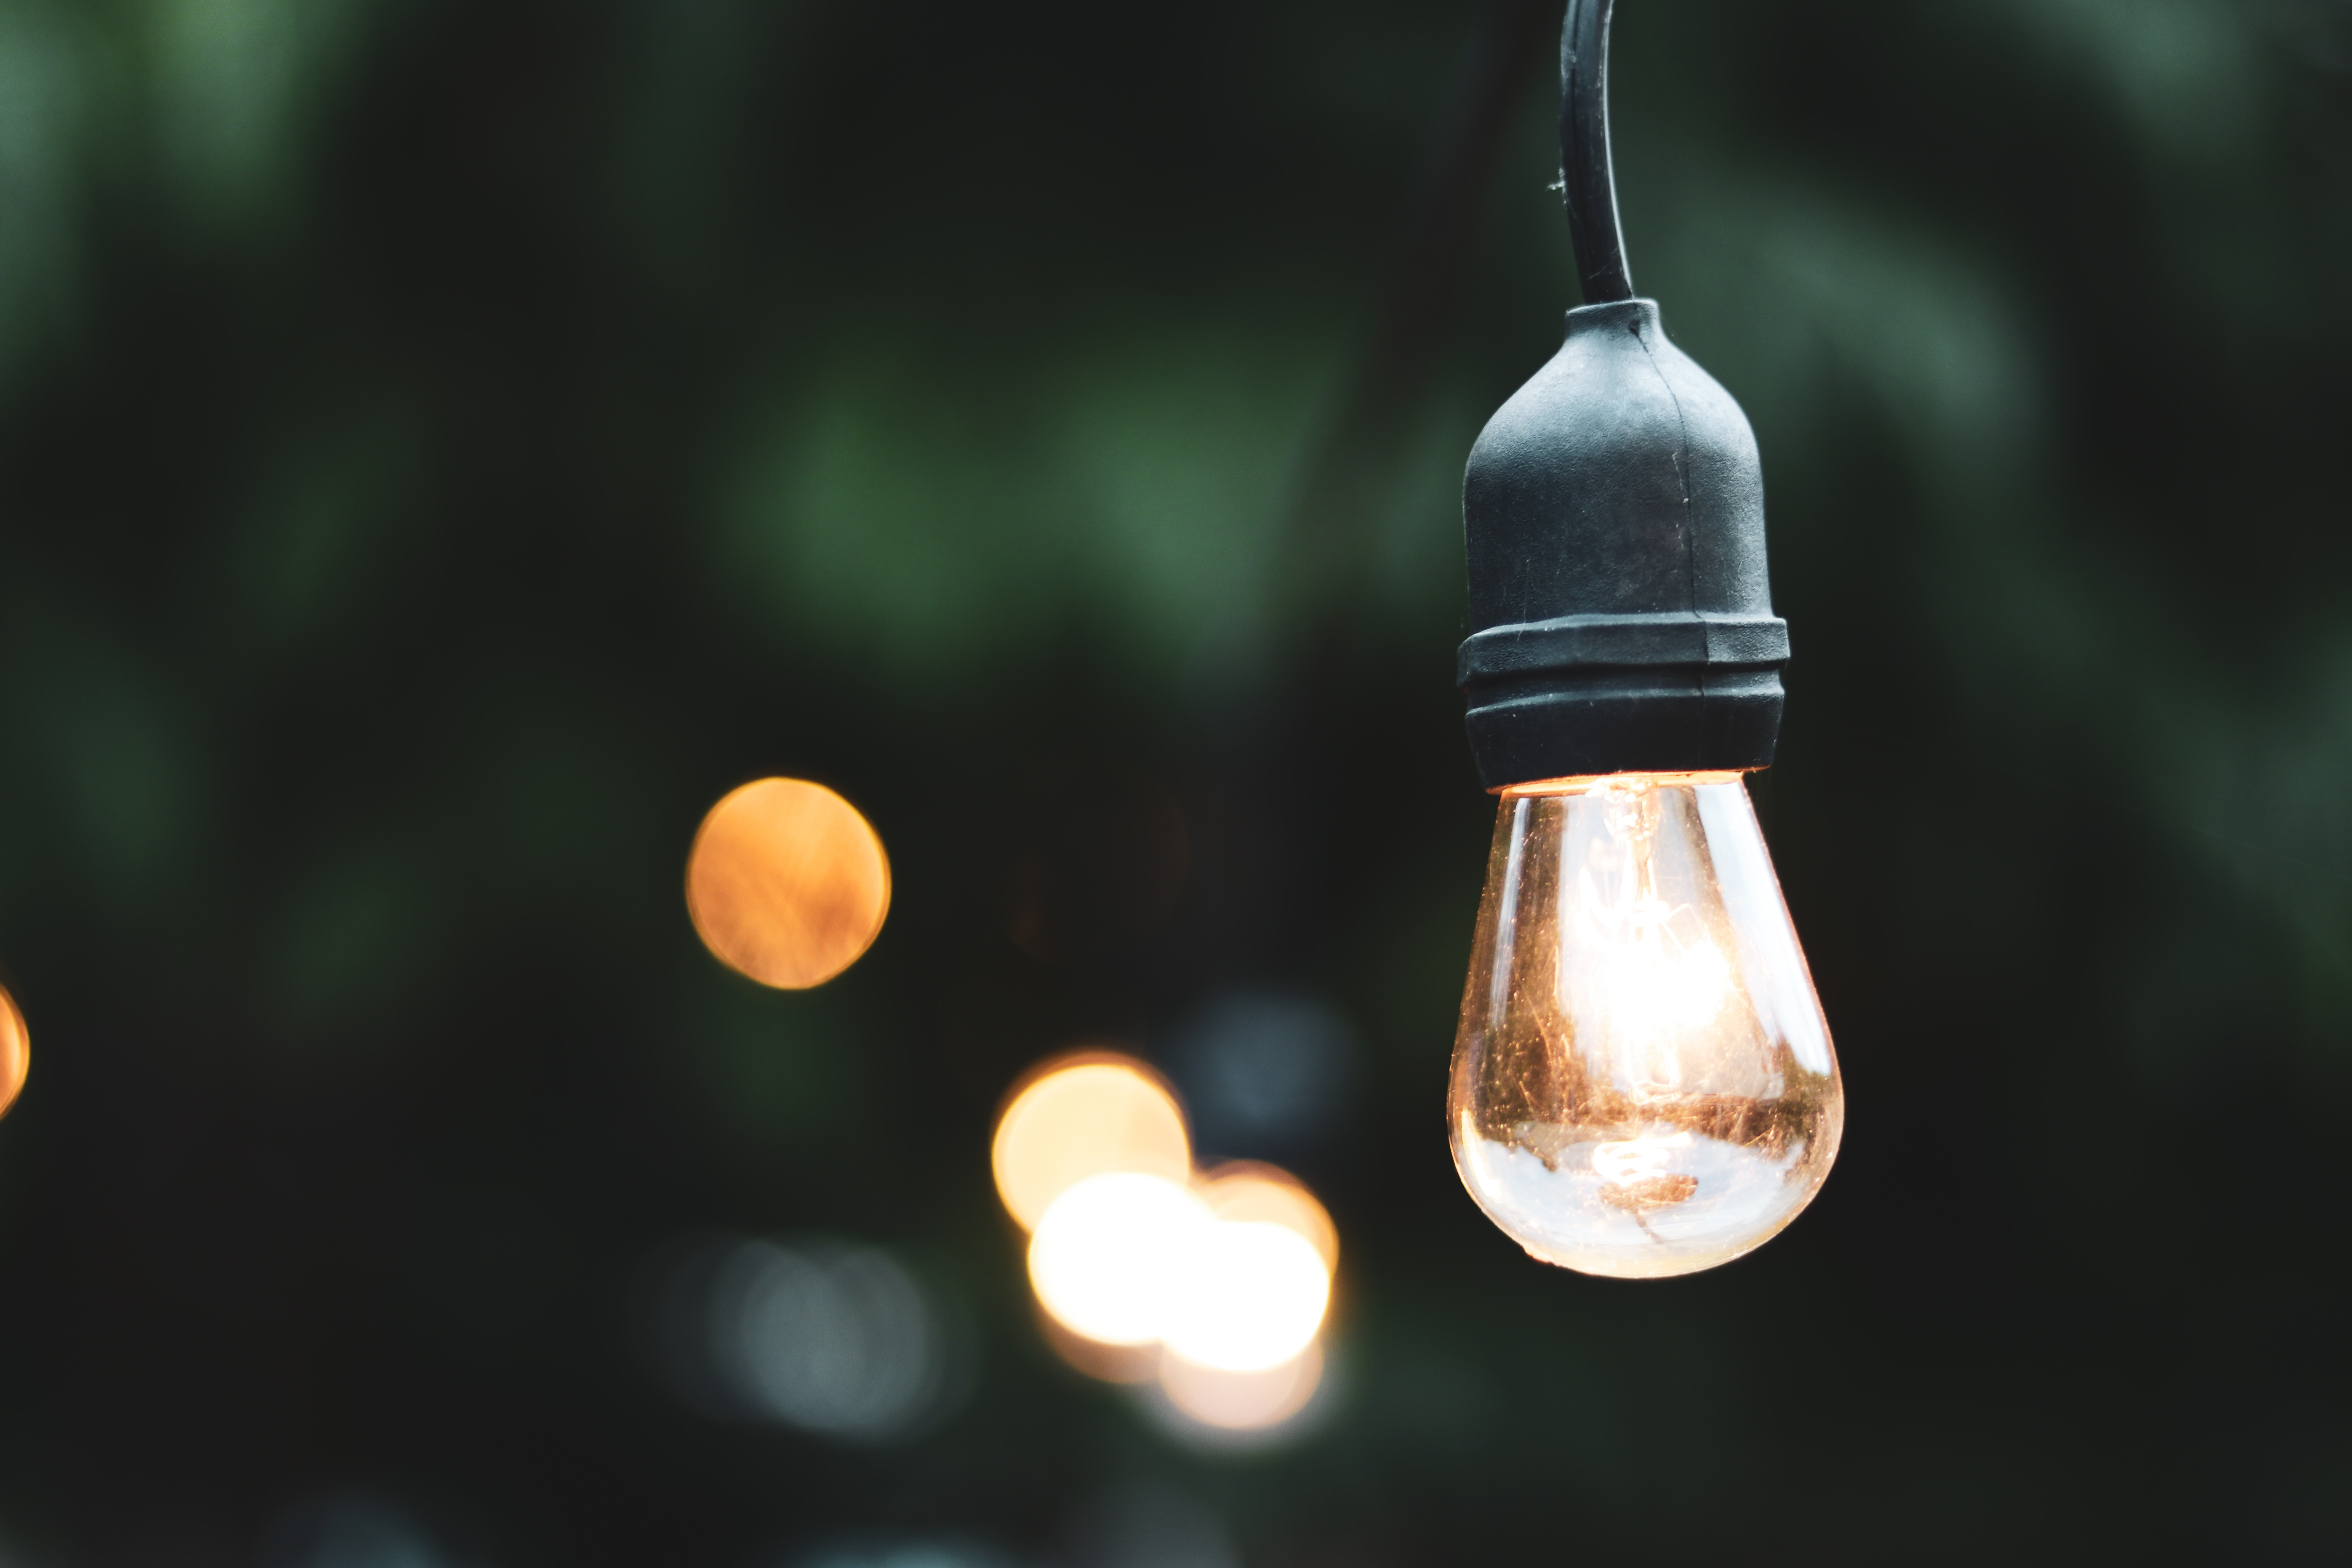bulb: (1284, 275, 1934, 1300)
